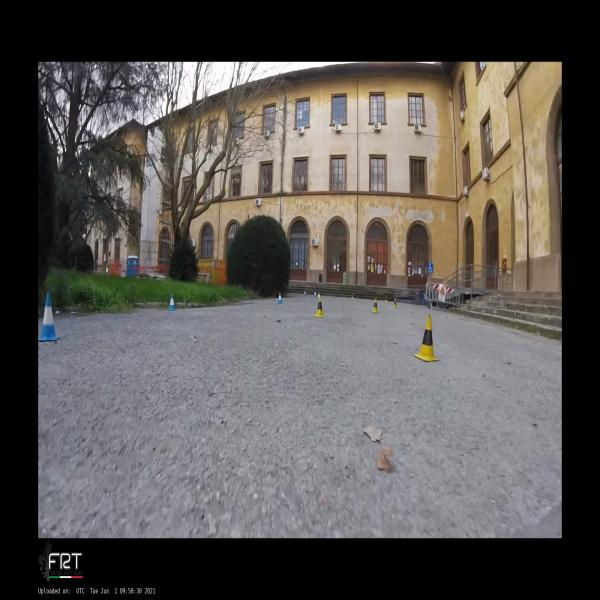blue_cone: (39, 292, 60, 342), (168, 295, 176, 311), (277, 292, 284, 304), (317, 293, 320, 299), (314, 290, 316, 297)
yellow_cone: (414, 314, 439, 363), (315, 297, 325, 318), (371, 298, 380, 314), (393, 298, 398, 309), (385, 295, 388, 303)
